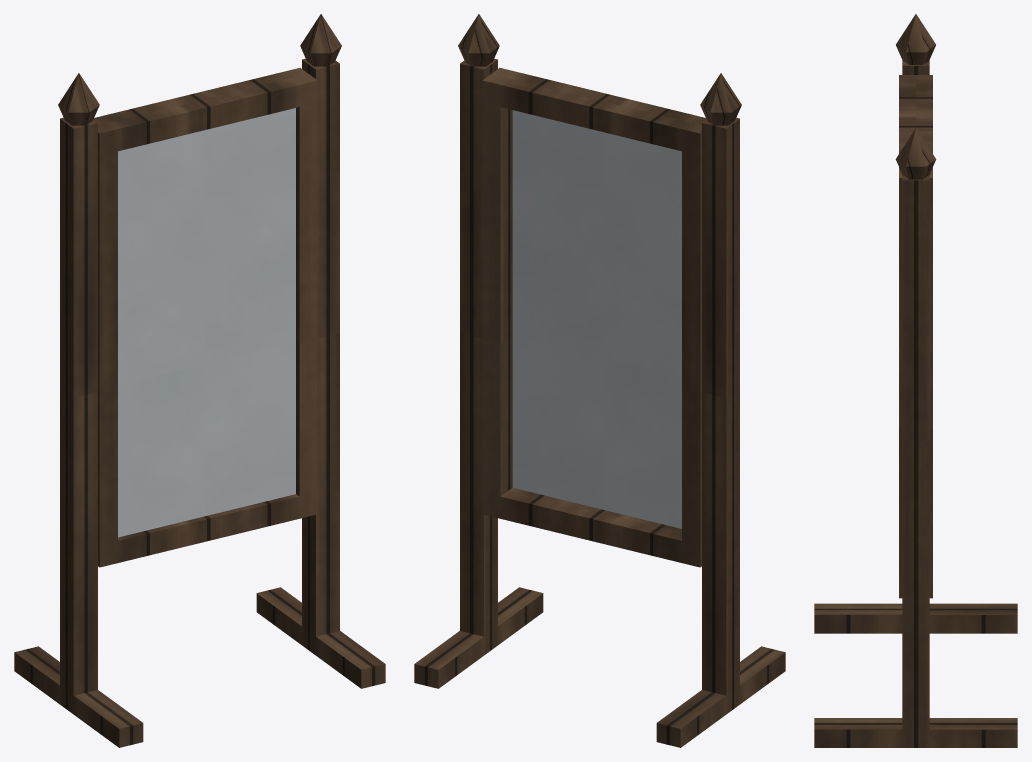
The model's file is Mirror_Standing_1.gltf.
3 views of the same model, side by side, from view 1: azimuth 30°, elevation 25°; view 2: azimuth 150°, elevation 25°; view 3: azimuth 270°, elevation 25° (orthographic). The views are drawn at different scales.
Parts seen in each view (by area): view 1: Mirror_Standing_1; view 2: Mirror_Standing_1; view 3: Mirror_Standing_1.
Part boxes in pixels (left/top/right/bottom): Mirror_Standing_1: left=14, top=14, right=385, bottom=747; Mirror_Standing_1: left=414, top=14, right=785, bottom=747; Mirror_Standing_1: left=814, top=14, right=1017, bottom=747.
Bounding box in the file's own units: 0.9039 × 2 × 0.6.
Materials: 2 (2 with a texture image).
